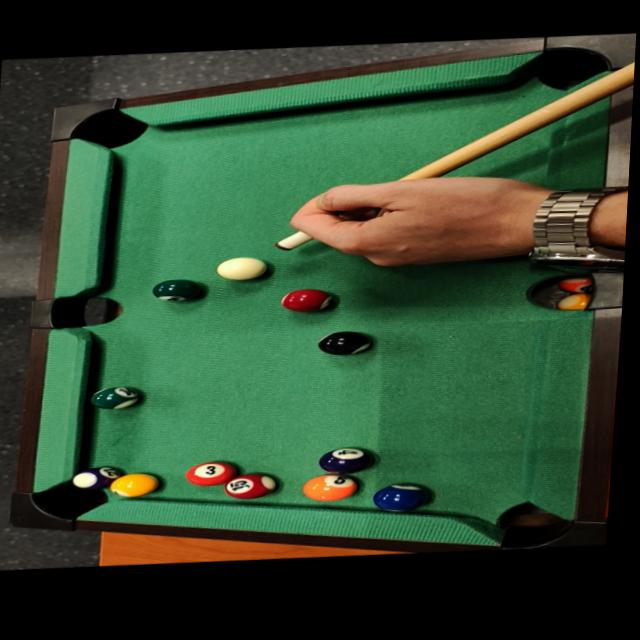cue ball: (212, 251, 271, 284)
other: (373, 478, 435, 515), (311, 326, 378, 360), (221, 467, 283, 500), (300, 470, 361, 503), (148, 273, 207, 305), (180, 456, 238, 488), (107, 467, 162, 500), (316, 444, 376, 474), (276, 285, 337, 314), (90, 382, 143, 413), (72, 462, 125, 492)
